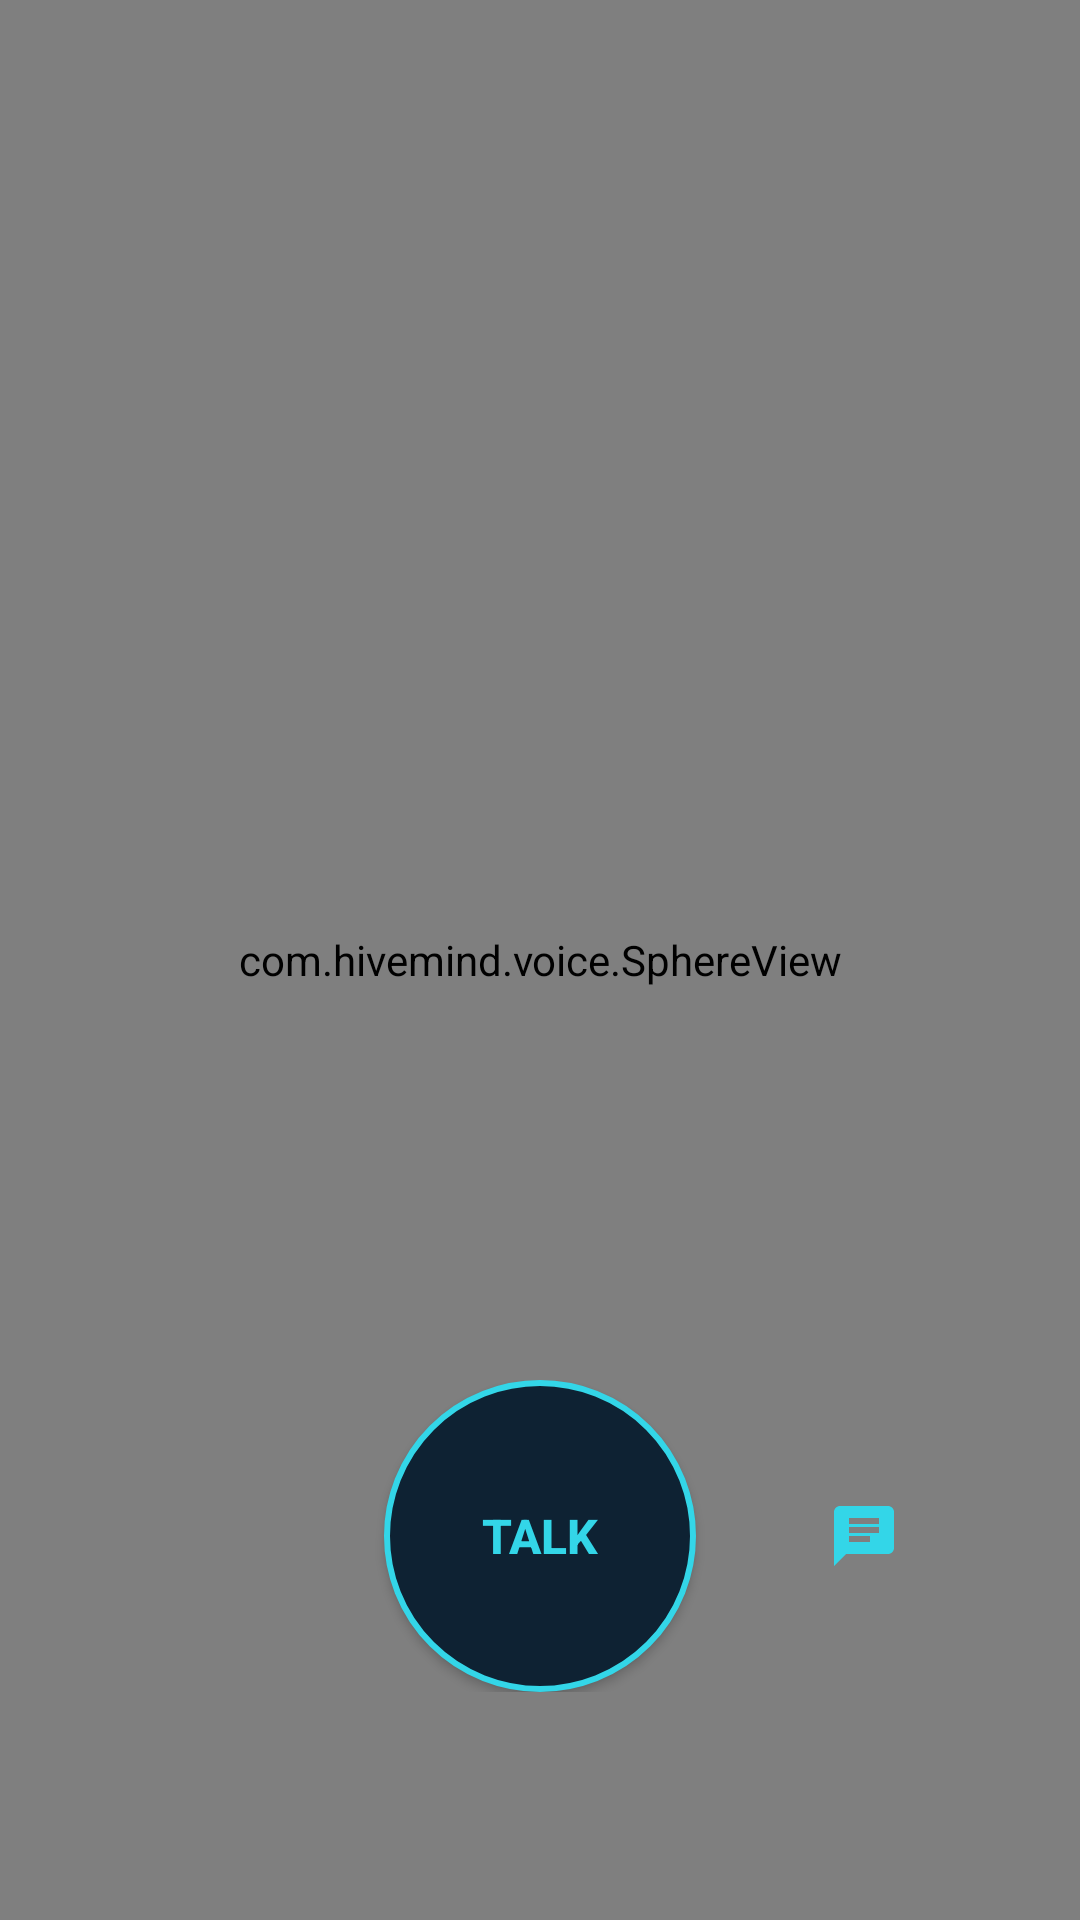

Named icons in this screenshot (1080w x 1920h) and their centers, [x,y]:
Text chat: [864,1536]
